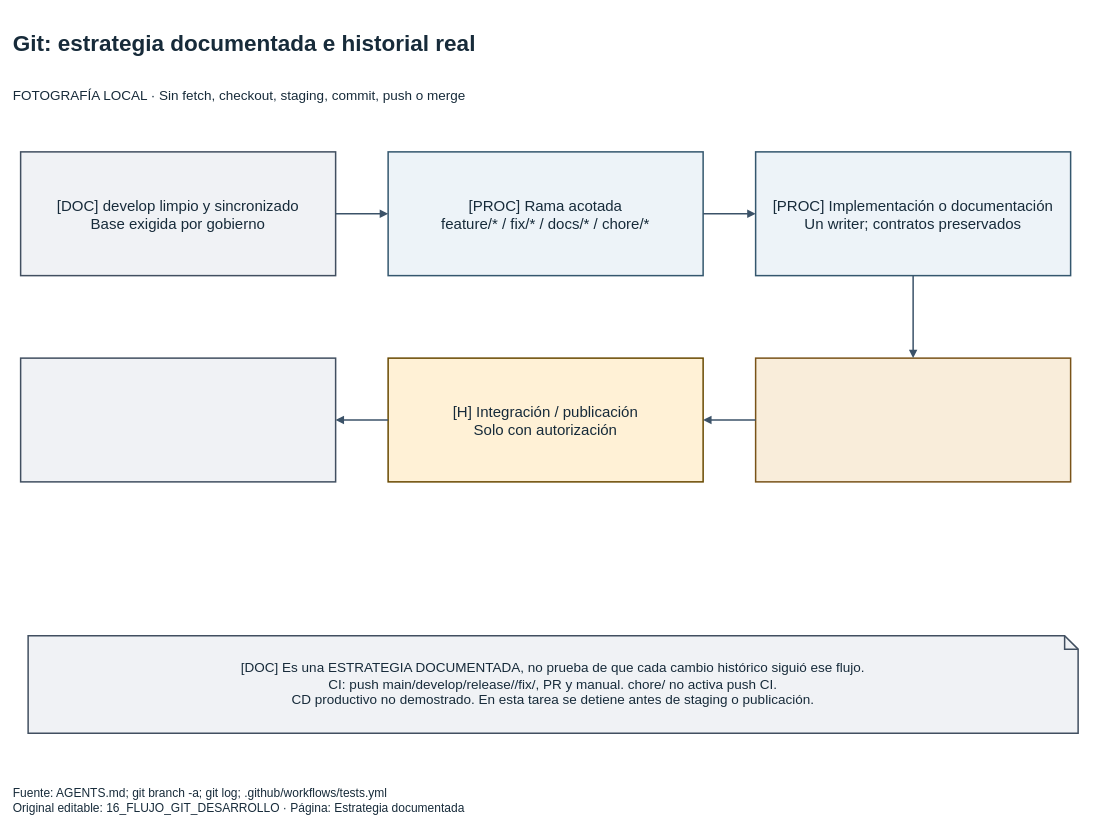
Some shapes in this 1106 by 837 pixel diagram are drawn without their labels. Each missing label, with the centre of its shape:
[DOC] main / release / tags No trabajo directo; historia protegida: [178,419]
[QA] Revisión y pruebas proporcionales Diff y evidencia: [912,419]
